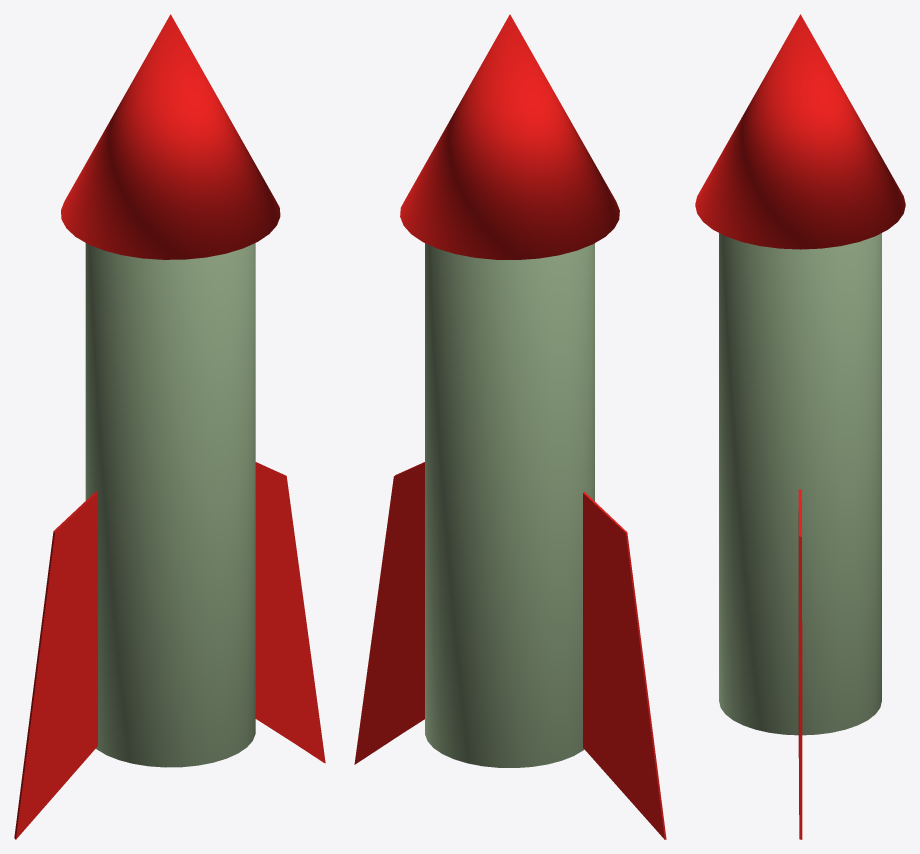
File: misil.fbx
The picture shows the model from 3 angles, left to right: view 1: azimuth 30°, elevation 25°; view 2: azimuth 150°, elevation 25°; view 3: azimuth 270°, elevation 25°; orthographic projection. The views are drawn at different scales.
Visible parts, largest first — view 1: Cylinder.042, Cone.004, Cube.006, Cube.007; view 2: Cylinder.042, Cone.004, Cube.006, Cube.007; view 3: Cylinder.042, Cone.004, Cube.007.
Boxes of the visible parts, x1=… form: Cylinder.042: x1=85, y1=243, x2=255, y2=767; Cone.004: x1=61, y1=14, x2=280, y2=259; Cube.006: x1=14, y1=491, x2=97, y2=839; Cube.007: x1=255, y1=462, x2=325, y2=763; Cylinder.042: x1=425, y1=243, x2=594, y2=767; Cone.004: x1=400, y1=14, x2=619, y2=259; Cube.006: x1=583, y1=492, x2=666, y2=839; Cube.007: x1=354, y1=462, x2=424, y2=764; Cylinder.042: x1=719, y1=233, x2=881, y2=735; Cone.004: x1=695, y1=14, x2=905, y2=249; Cube.007: x1=798, y1=489, x2=802, y2=839.
Bounding box in the file's own units: 96.59 × 234 × 59.39.
